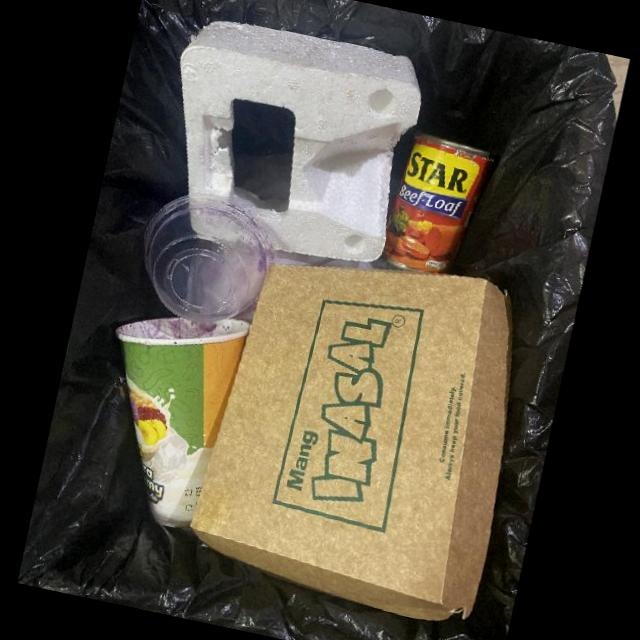carton: (189, 263, 512, 623), (114, 315, 251, 530)
hop_nhua: (142, 193, 274, 323)
nhom: (381, 133, 491, 274)
xop: (179, 21, 421, 262)
